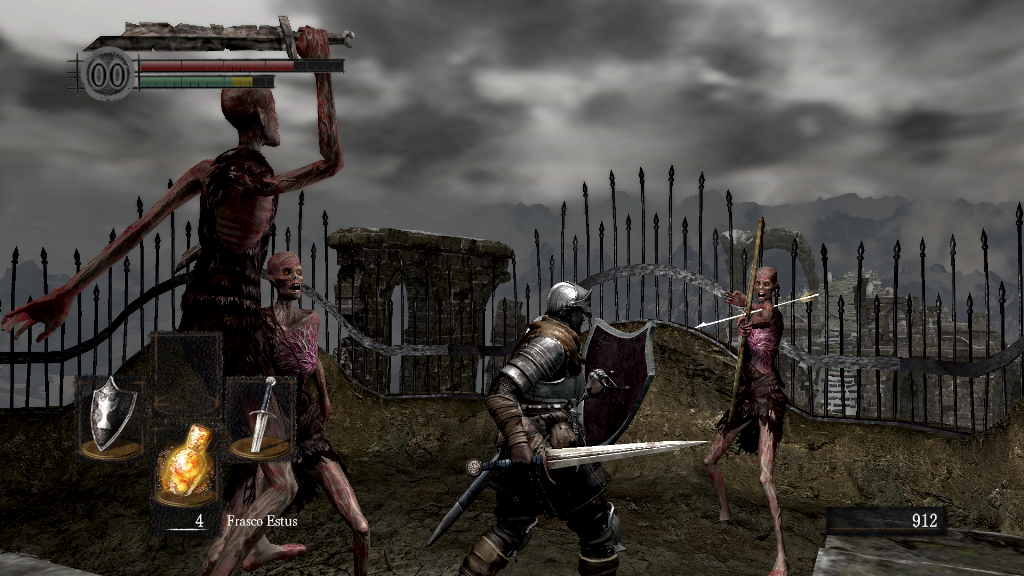health: (138, 58, 343, 71)
hollow: (10, 18, 357, 573), (252, 252, 375, 573), (695, 218, 795, 576)
humanity: (80, 45, 136, 102)
player: (428, 280, 716, 576)
souls: (825, 506, 945, 536)
stamina: (138, 74, 274, 88)
